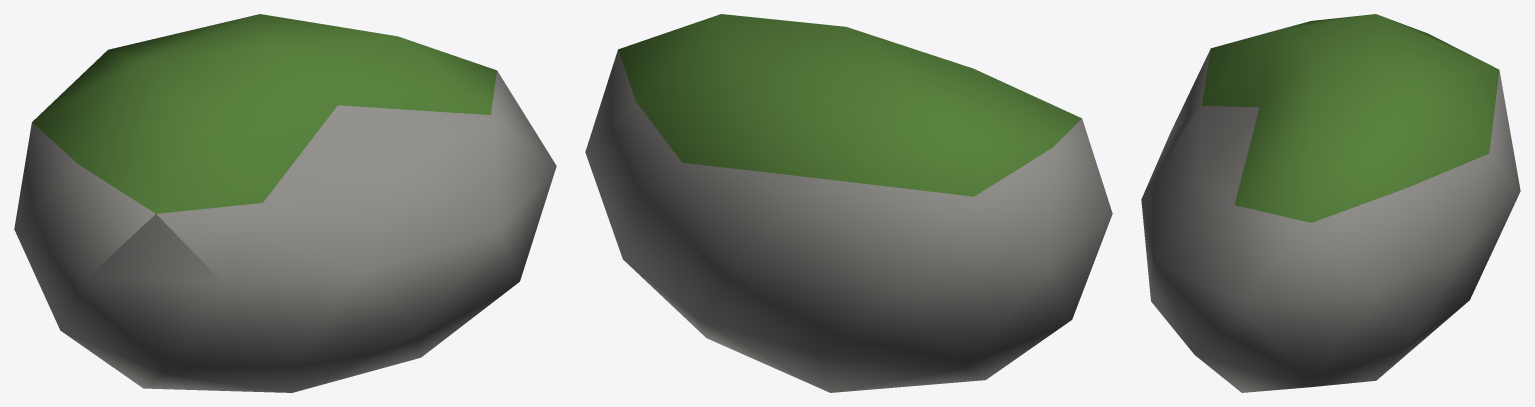
Rendered from boulder_b_lod1.glb.
The picture shows the model from 3 angles, left to right: view 1: azimuth 30°, elevation 25°; view 2: azimuth 150°, elevation 25°; view 3: azimuth 270°, elevation 25°; orthographic projection. The views are drawn at different scales.
Visible parts, largest first — view 1: boulder_b_lod1; view 2: boulder_b_lod1; view 3: boulder_b_lod1.
Part boxes in pixels (bbox=[...]): boulder_b_lod1: bbox=[14, 14, 556, 392]; boulder_b_lod1: bbox=[585, 14, 1112, 392]; boulder_b_lod1: bbox=[1141, 14, 1520, 392].
Bounding box in the file's own units: 1.97 × 1.38 × 1.44.
